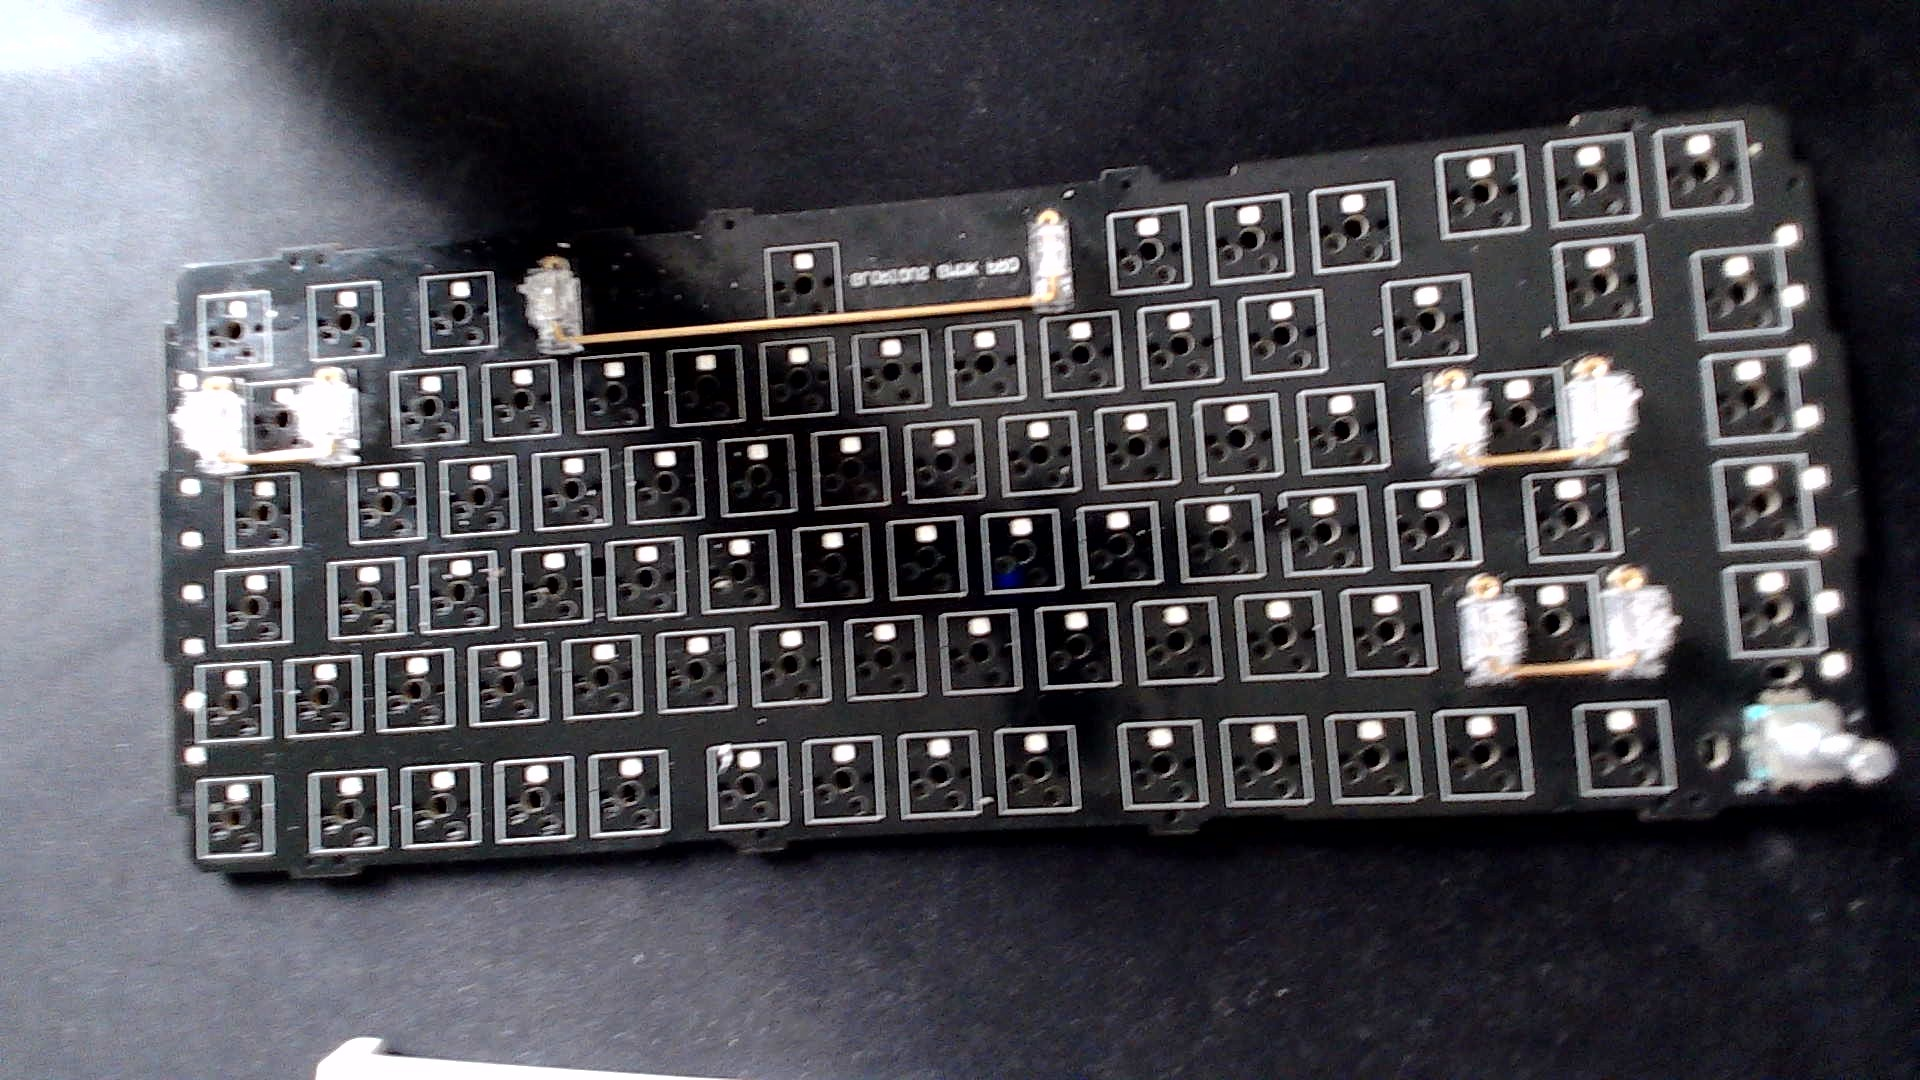pcb: (133, 65, 1913, 935)
